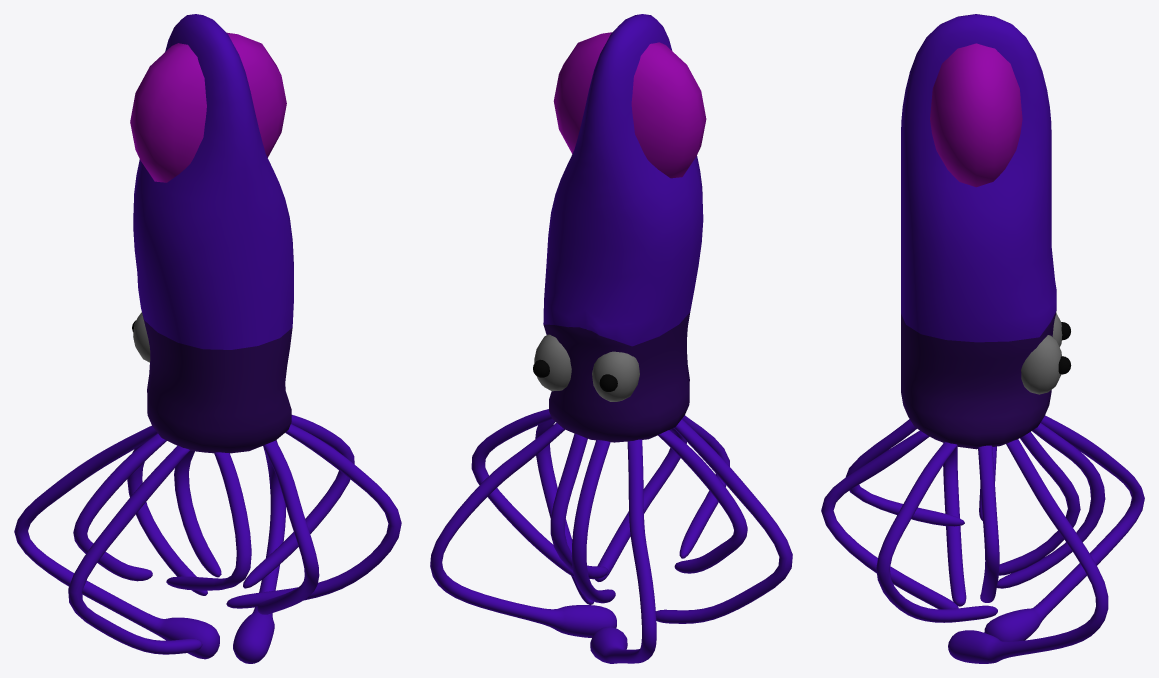
File: squid-9.obj
3 views of the same model, side by side, from view 1: azimuth 30°, elevation 25°; view 2: azimuth 150°, elevation 25°; view 3: azimuth 270°, elevation 25° (orthographic). The views are drawn at different scales.
Visible parts, largest first — view 1: Squid_Cube.1543, Squid.001_Cube.1545; view 2: Squid_Cube.1543, Squid.001_Cube.1545; view 3: Squid_Cube.1543, Squid.001_Cube.1545.
Part boxes in pixels (x1,y1,x2,y2): Squid_Cube.1543: [14, 14, 401, 663]; Squid.001_Cube.1545: [132, 312, 150, 362]; Squid_Cube.1543: [430, 14, 792, 663]; Squid.001_Cube.1545: [533, 334, 639, 401]; Squid_Cube.1543: [821, 14, 1144, 663]; Squid.001_Cube.1545: [1021, 313, 1071, 394].
Size of the model in its own units: 3.3 by 6.72 by 3.13.
